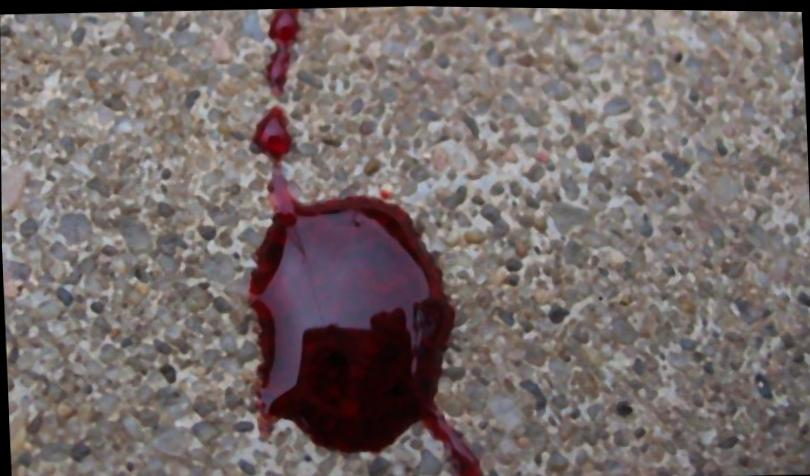Fire: (246, 104, 486, 476), (264, 7, 302, 95)
